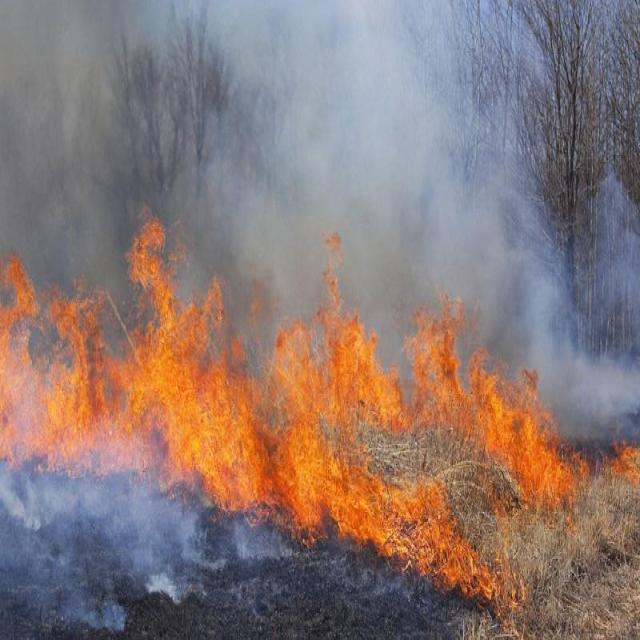fire: (0, 216, 596, 586), (611, 423, 636, 488)
